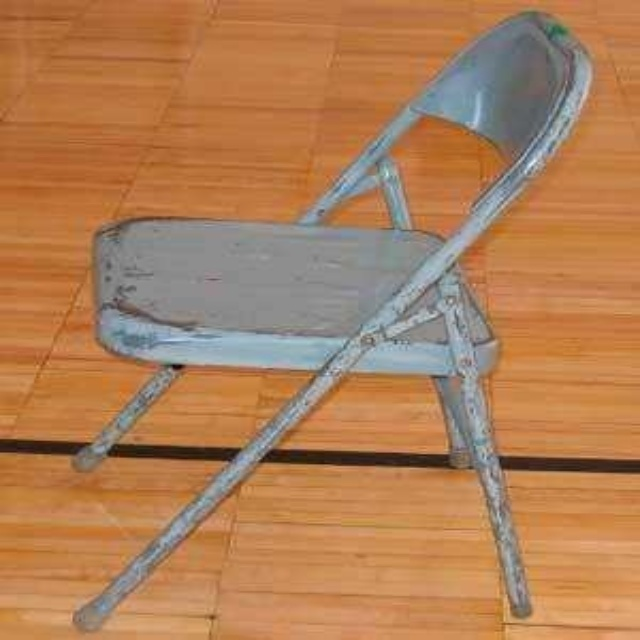obstacle: (73, 12, 589, 630)
